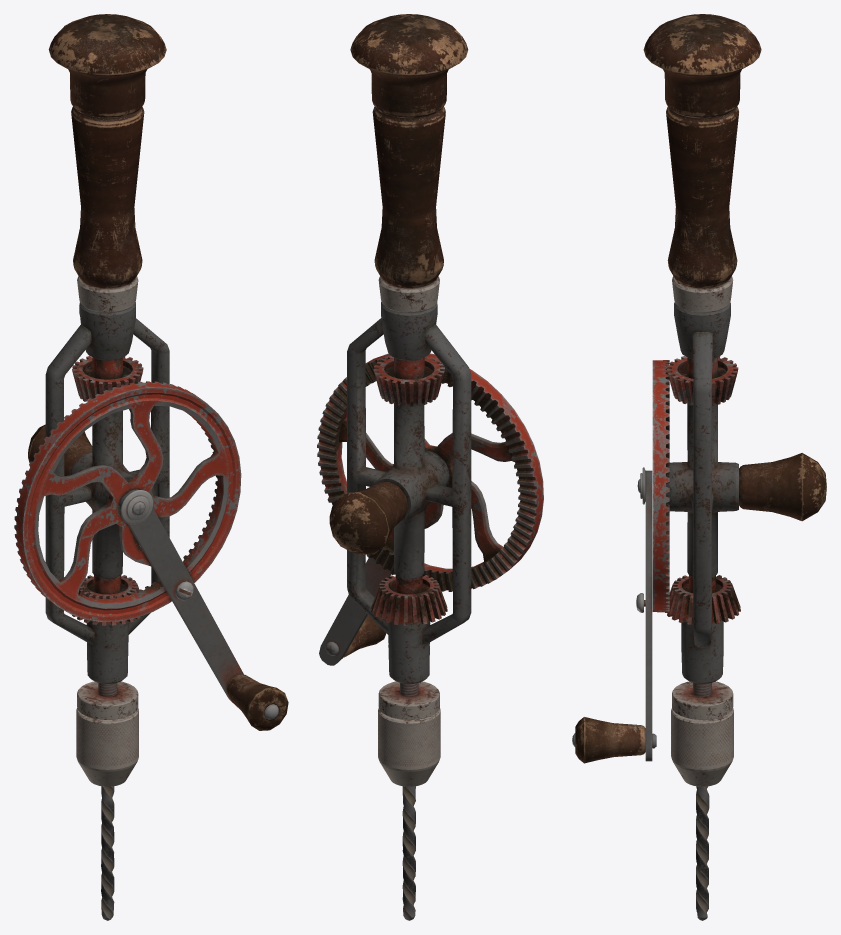
File: hand-drill.glb
3 views of the same model, side by side, from view 1: azimuth 30°, elevation 25°; view 2: azimuth 150°, elevation 25°; view 3: azimuth 270°, elevation 25° (orthographic).
Parts seen in each view (by area): view 1: Cylinder.087, vintage_hand_drill_crank, vintage_hand_drill_head, vintage_hand_drill_cog1, vintage_hand_drill_cog2; view 2: Cylinder.087, vintage_hand_drill_crank, vintage_hand_drill_head, vintage_hand_drill_cog2, vintage_hand_drill_cog1; view 3: Cylinder.087, vintage_hand_drill_crank, vintage_hand_drill_head, vintage_hand_drill_cog2, vintage_hand_drill_cog1.
Boxes of the visible parts, x1,y1,x2,y2 form: Cylinder.087: [28, 14, 169, 683]; vintage_hand_drill_crank: [14, 381, 288, 730]; vintage_hand_drill_head: [76, 681, 138, 920]; vintage_hand_drill_cog1: [72, 356, 143, 401]; vintage_hand_drill_cog2: [72, 575, 142, 625]; Cylinder.087: [329, 14, 471, 683]; vintage_hand_drill_crank: [317, 353, 543, 665]; vintage_hand_drill_head: [378, 681, 440, 920]; vintage_hand_drill_cog2: [371, 575, 447, 625]; vintage_hand_drill_cog1: [373, 356, 444, 406]; Cylinder.087: [643, 14, 826, 683]; vintage_hand_drill_crank: [572, 360, 669, 763]; vintage_hand_drill_head: [671, 681, 733, 920]; vintage_hand_drill_cog2: [665, 575, 740, 624]; vintage_hand_drill_cog1: [667, 356, 738, 405].
Size of the model in its own units: 0.1312 by 0.4857 by 0.1251.
Materials: 1 (1 with a texture image).
